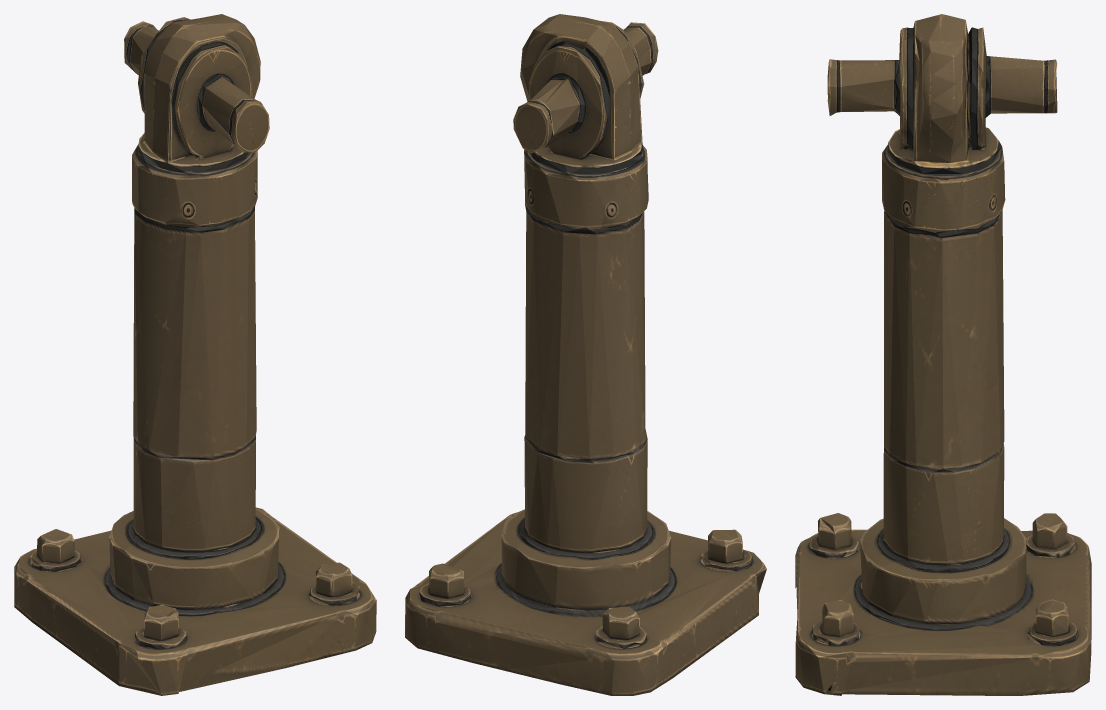
Rendered from shturval-stoyka.glb.
The picture shows the model from 3 angles, left to right: view 1: azimuth 30°, elevation 25°; view 2: azimuth 150°, elevation 25°; view 3: azimuth 270°, elevation 25°; orthographic projection. The views are drawn at different scales.
Parts seen in each view (by area): view 1: shturval-stoyka; view 2: shturval-stoyka; view 3: shturval-stoyka.
Part boxes in pixels (bbox=[...]): shturval-stoyka: bbox=[14, 14, 376, 695]; shturval-stoyka: bbox=[405, 14, 766, 695]; shturval-stoyka: bbox=[795, 14, 1091, 695].
Size of the model in its own units: 0.35 by 0.8 by 0.35.
1 material, 1 textured.
